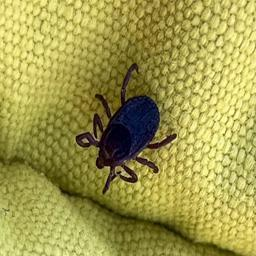Rhipicephalus sanguineus: (75, 63, 178, 194)
